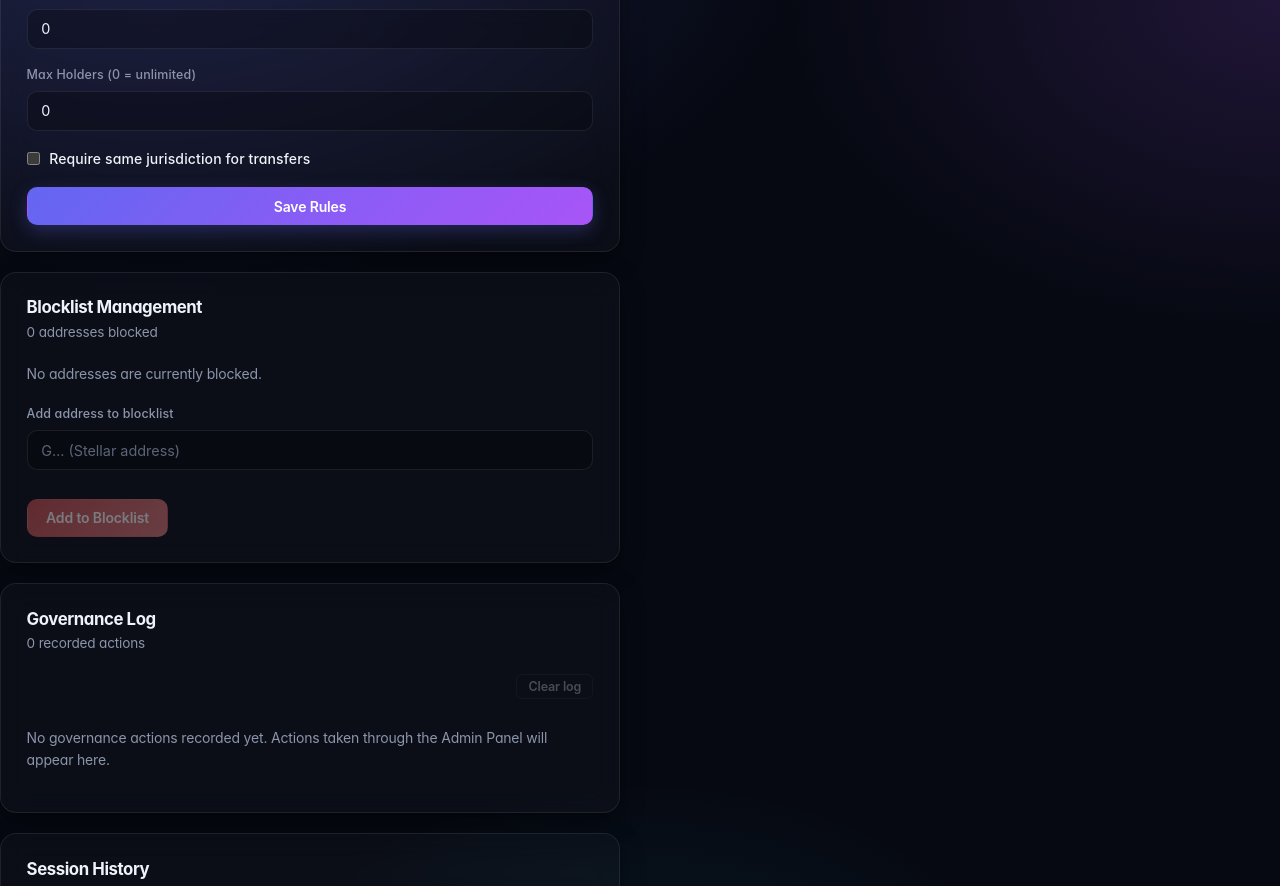
Test: AdminPage – blocklist management › Add to Blocklist button becomes enabled when an address is entered
(page scrolled)
In the field with placeholder "G… (Stellar address)": (310, 450) [27,430,593,470], type "GBQG2SJ7MXUH34SI3MJ2I256I5UMGM2QSQZM77YFX5S6JOHXUQJEPC3A"
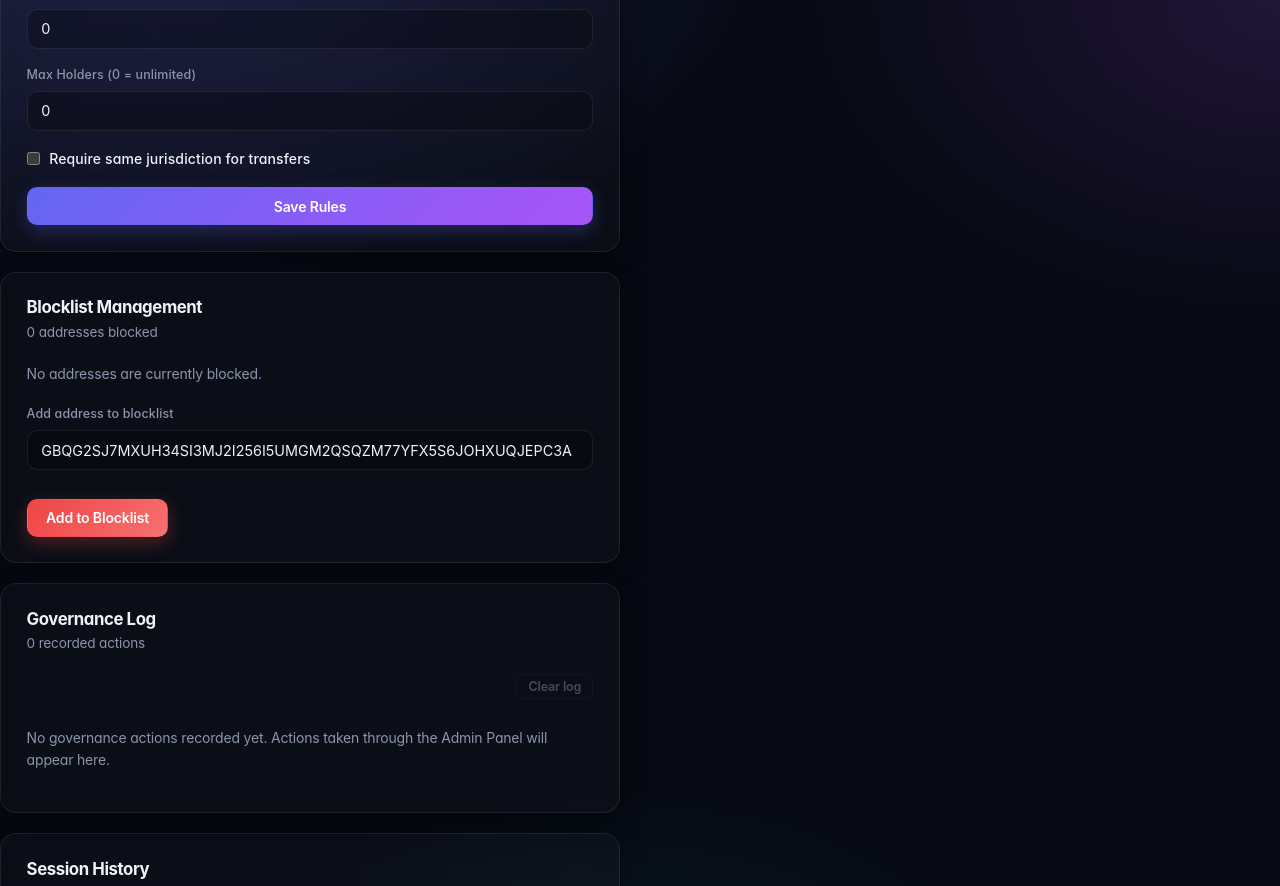
Check: the button "Add to Blocklist" is enabled, box [27,499,168,537]
